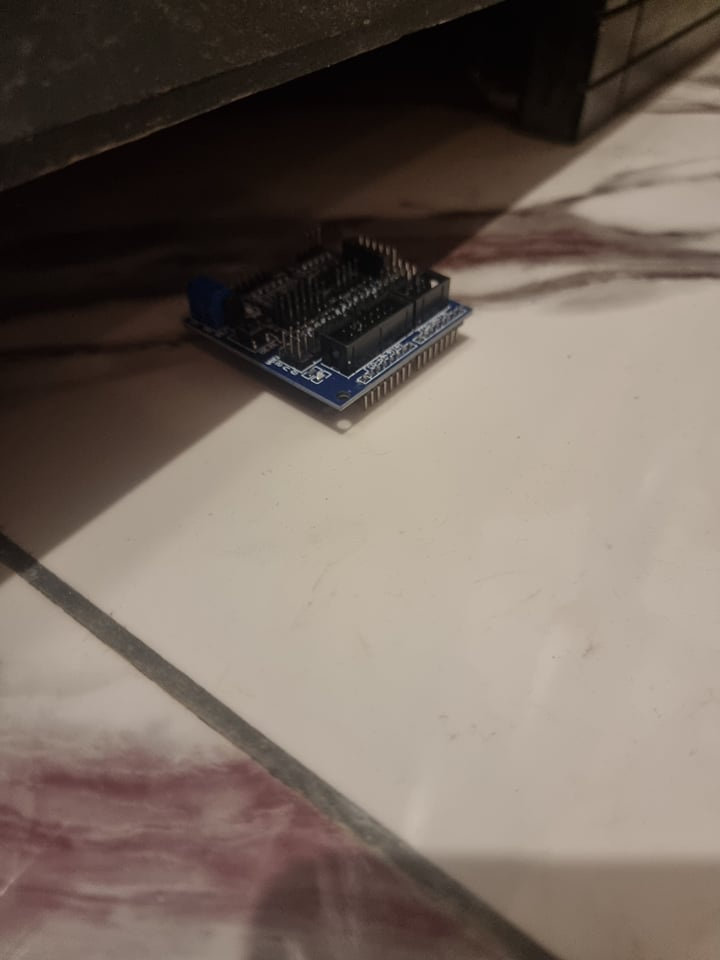5V EXPANSION: (181, 225, 473, 419)
